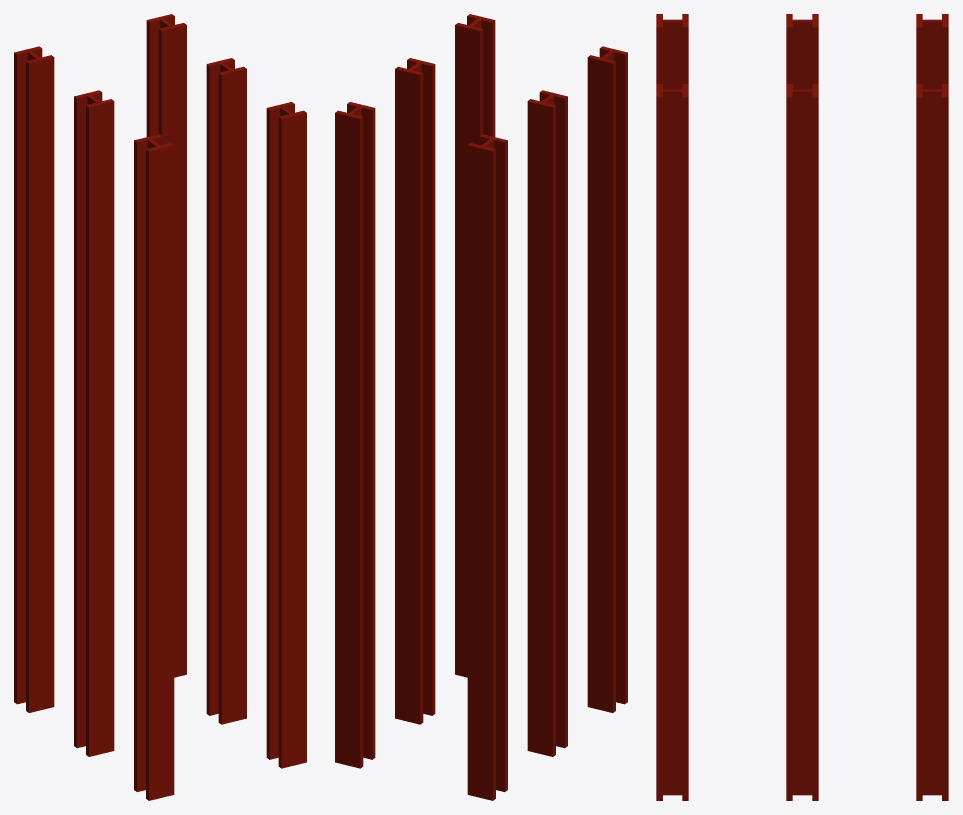
Rendered from I-beam_002.gltf.
3 views of the same model, side by side, from view 1: azimuth 30°, elevation 25°; view 2: azimuth 150°, elevation 25°; view 3: azimuth 270°, elevation 25° (orthographic). The views are drawn at different scales.
Visible parts, largest first — view 1: I-beam.002; view 2: I-beam.002; view 3: I-beam.002.
Boxes of the visible parts, x1=… form: I-beam.002: x1=14, y1=14, x2=306, y2=800; I-beam.002: x1=335, y1=14, x2=627, y2=800; I-beam.002: x1=656, y1=14, x2=948, y2=800.
Size of the model in its own units: 3.97 by 15.63 by 5.89.
